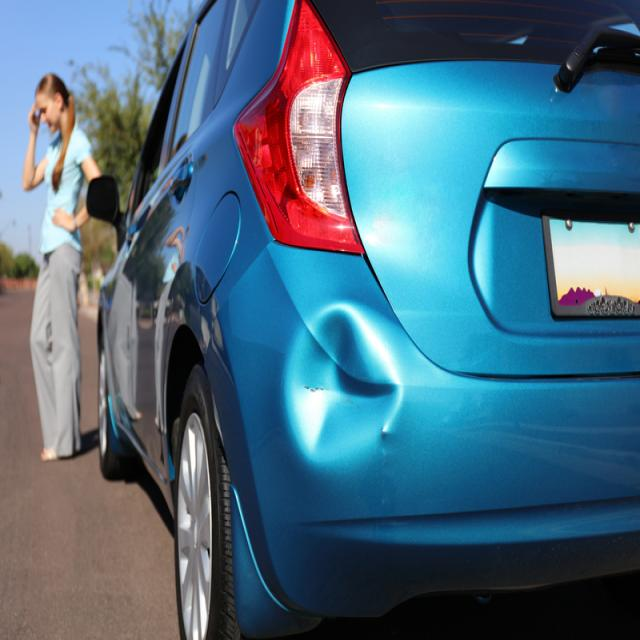dent: (281, 300, 403, 469)
scratch: (303, 384, 326, 395)
